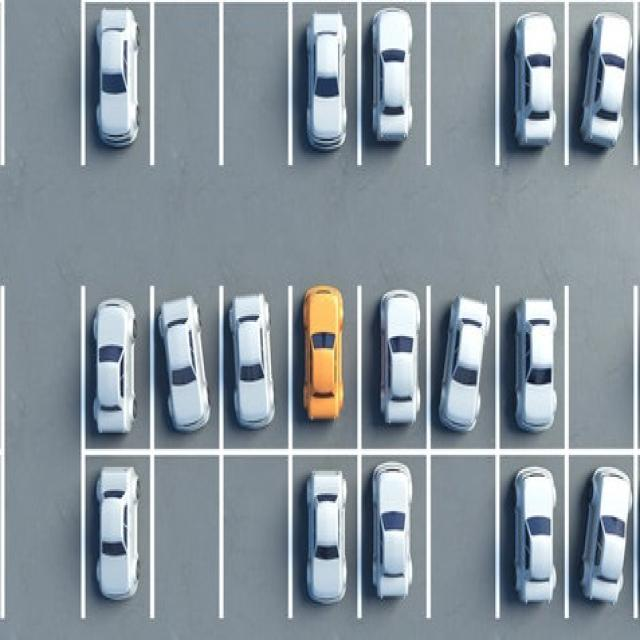space-empty: (0, 0, 86, 173), (424, 2, 504, 179), (147, 449, 226, 624), (425, 451, 503, 628), (560, 278, 638, 455), (218, 0, 296, 175), (223, 452, 290, 628), (153, 2, 220, 170)
space-occupied: (492, 0, 572, 181), (494, 445, 572, 628), (492, 278, 572, 455), (356, 449, 434, 630), (286, 0, 364, 179), (286, 447, 364, 626), (79, 445, 156, 626), (356, 280, 434, 453), (79, 0, 156, 175), (287, 280, 364, 453), (148, 282, 224, 453), (216, 282, 291, 453), (79, 280, 153, 453), (569, 0, 638, 180), (363, 0, 425, 186), (432, 282, 501, 446), (572, 454, 636, 621)
